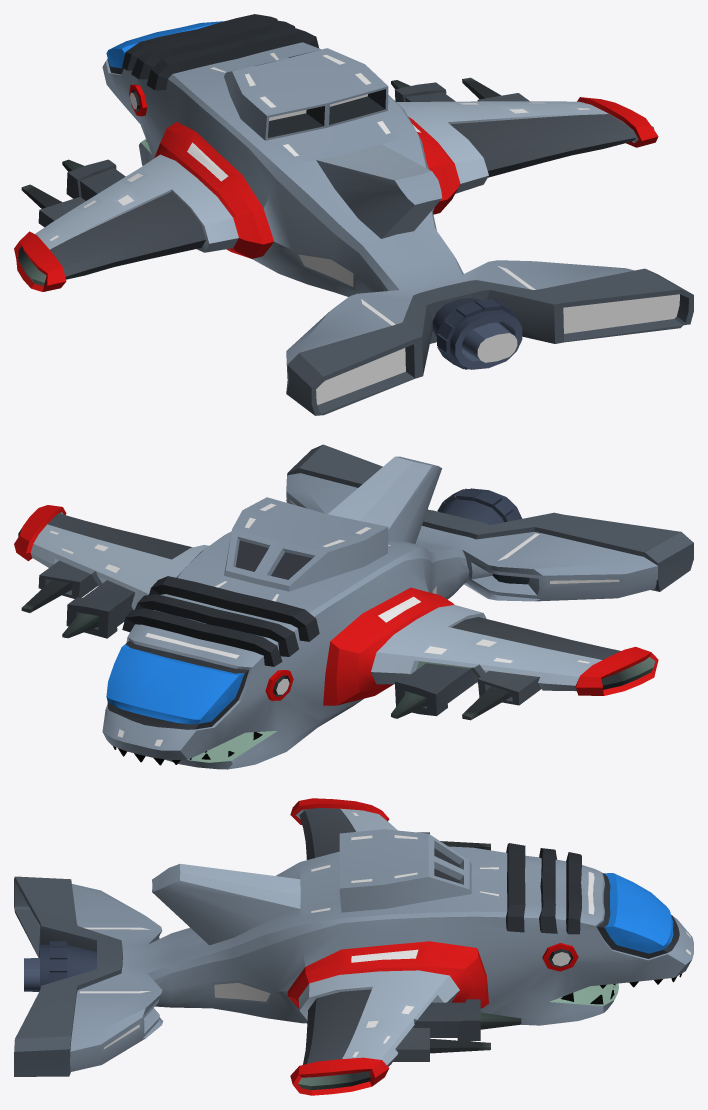
Rendered from EnemyModel2.fbx.
3 views of the same model, one above another, from view 1: azimuth 30°, elevation 25°; view 2: azimuth 150°, elevation 25°; view 3: azimuth 270°, elevation 25° (orthographic). The views are drawn at different scales.
Visible parts, largest first — view 1: Shark; view 2: Shark; view 3: Shark.
Boxes of the visible parts, x1,y1,x2,y2 form: Shark: [14, 14, 693, 415]; Shark: [14, 444, 693, 769]; Shark: [14, 798, 693, 1095].
Size of the model in its own units: 2359 by 574 by 2398.
